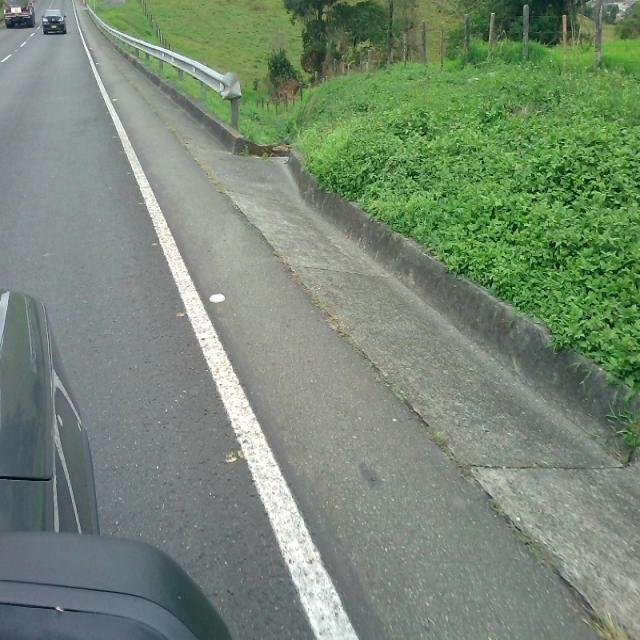DITCH: (1, 22, 638, 638), (70, 2, 638, 638), (5, 86, 638, 638)
